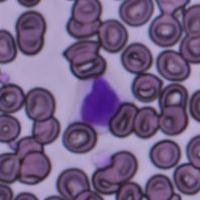M: (70, 74, 126, 132)
